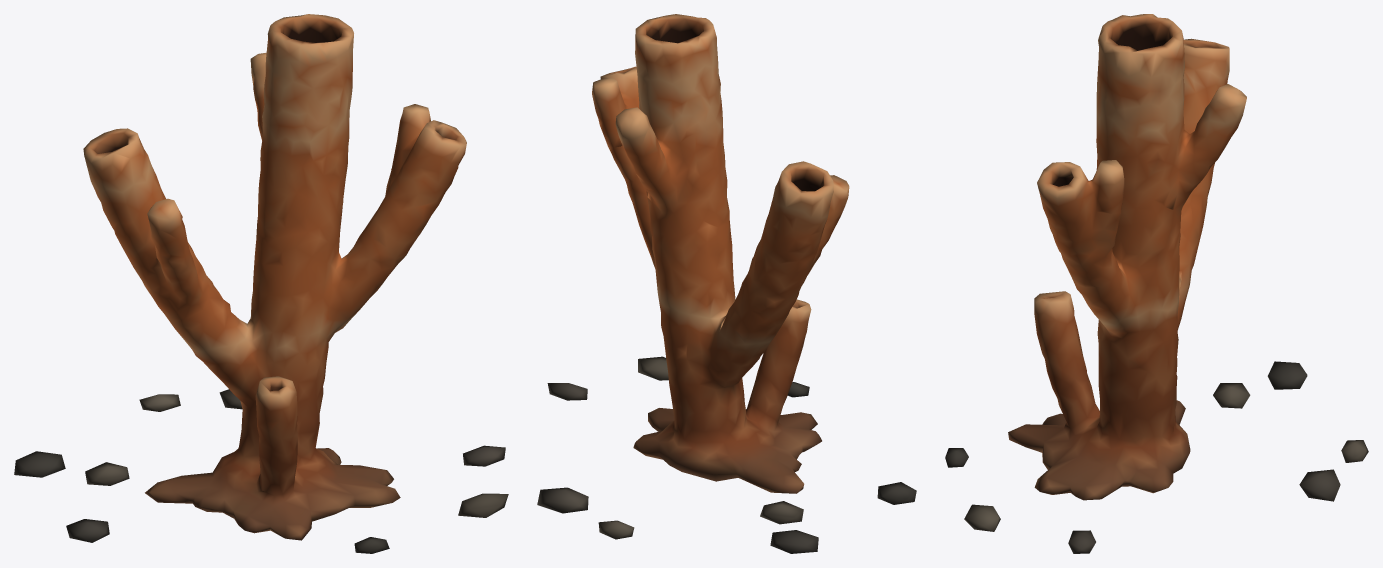
The model's file is VauxiaPregracilenta.fbx.
3 renders of one model, left to right at view 1: azimuth 30°, elevation 25°; view 2: azimuth 150°, elevation 25°; view 3: azimuth 270°, elevation 25°, orthographic. The views are drawn at different scales.
Visible parts, largest first — view 1: VauxiaPregracilenta; view 2: VauxiaPregracilenta; view 3: VauxiaPregracilenta.
Part boxes in pixels (<box>): VauxiaPregracilenta: <box>14,14,508,553</box>; VauxiaPregracilenta: <box>537,14,916,553</box>; VauxiaPregracilenta: <box>945,14,1368,553</box>.
Size of the model in its own units: 1.16 by 1.25 by 1.04.
